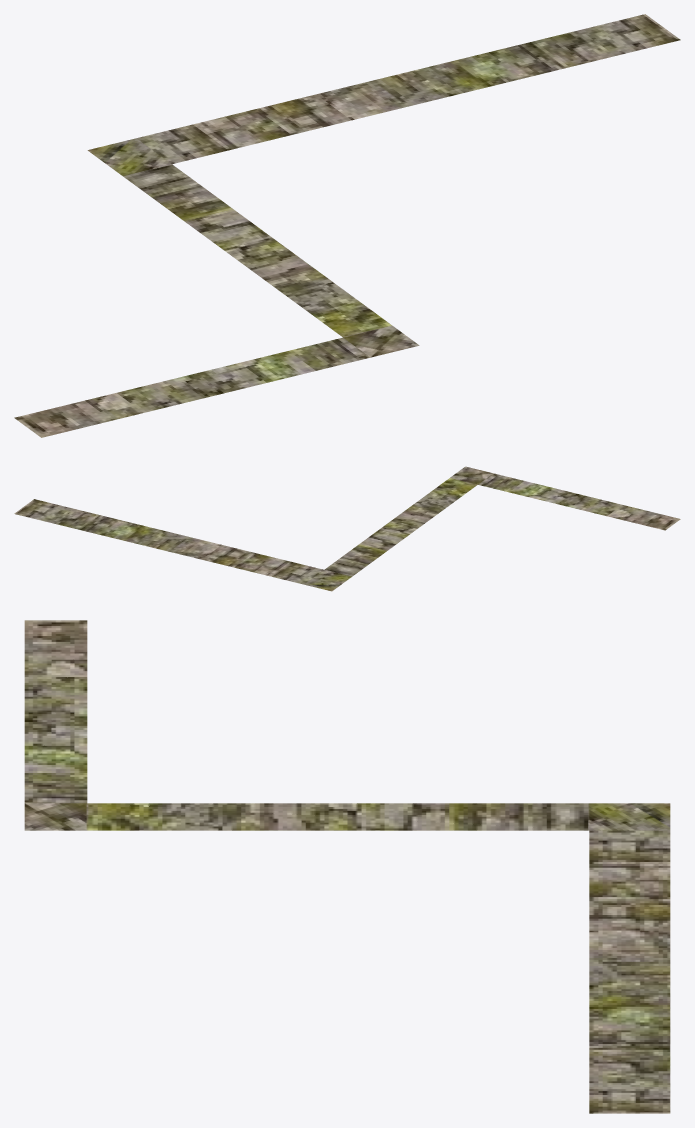
Rendered from StoneFloor.fbx.
The picture shows the model from 3 angles, top to bottom: view 1: azimuth 30°, elevation 25°; view 2: azimuth 150°, elevation 25°; view 3: azimuth 270°, elevation 25°; orthographic projection. The views are drawn at different scales.
Parts seen in each view (by area): view 1: StoneFloor; view 2: StoneFloor; view 3: StoneFloor.
Boxes of the visible parts, box(x1,y1,x2,y2) form: StoneFloor: box(14, 14, 680, 437); StoneFloor: box(14, 466, 680, 591); StoneFloor: box(24, 620, 670, 1113).
Size of the model in its own units: 9944 by 0.000896 by 5500.
Materials: 1 (1 with a texture image).
